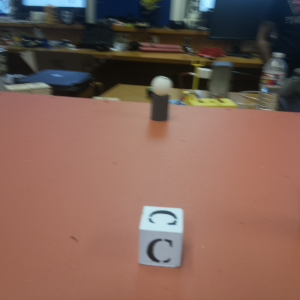blockC: (141, 209, 184, 266)
obstacle: (151, 76, 170, 121)
